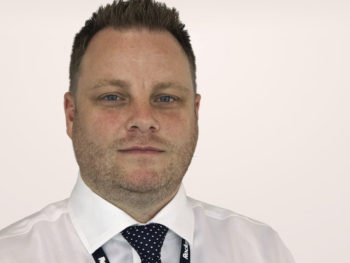bad: (81, 67, 210, 196)
